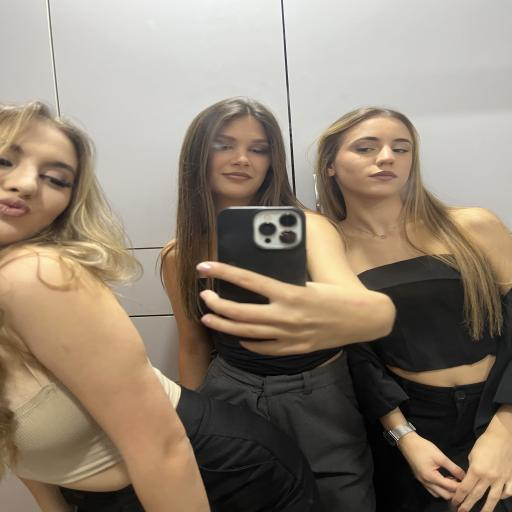masa: (337, 111, 417, 198)
